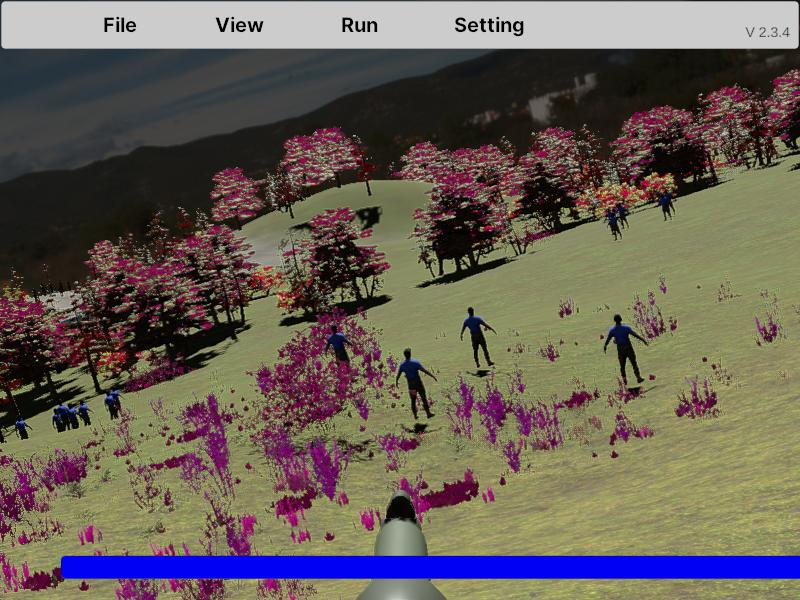Human: (603, 314, 649, 389), (396, 348, 438, 420), (461, 306, 498, 368)
